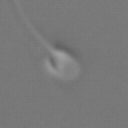normal: (8, 1, 54, 48)
